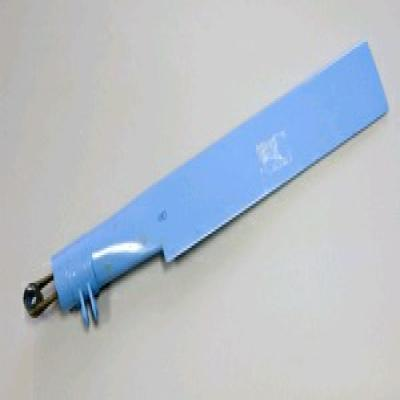technique: (25, 40, 389, 330)
